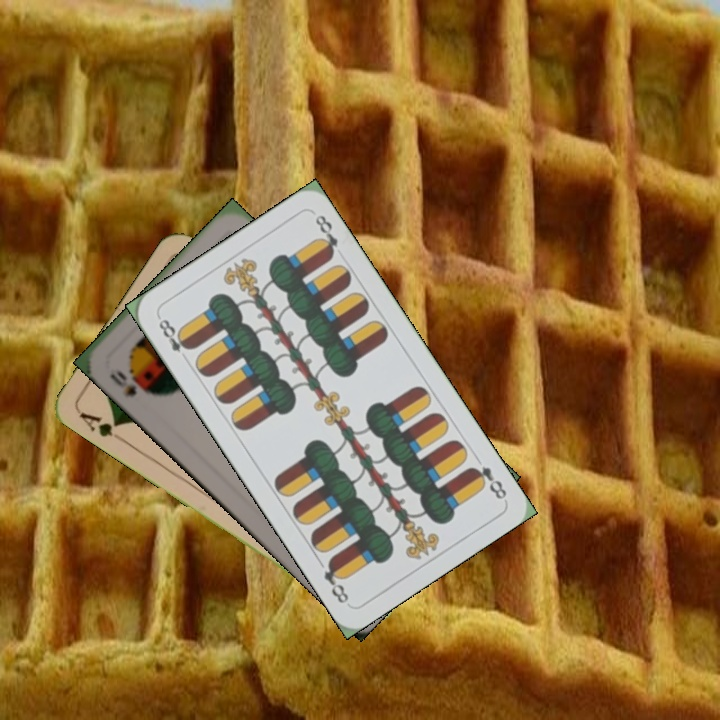E8: (154, 313, 195, 365), (465, 462, 510, 503)
GA: (75, 407, 128, 445)
SO: (105, 366, 140, 400)
